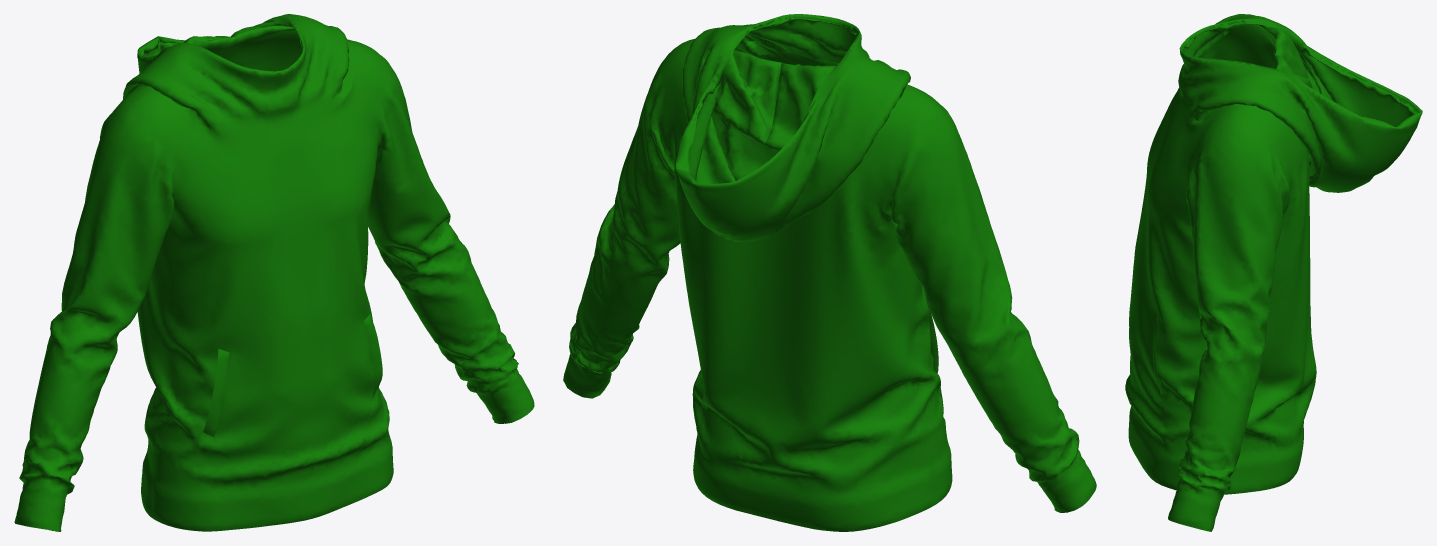
File: Hoodie2-2.glb
3 views of the same model, side by side, from view 1: azimuth 30°, elevation 25°; view 2: azimuth 150°, elevation 25°; view 3: azimuth 270°, elevation 25° (orthographic). The views are drawn at different scales.
Visible parts, largest first — view 1: Hoodie.001; view 2: Hoodie.001; view 3: Hoodie.001.
Boxes of the visible parts, left/top/right/bottom form: Hoodie.001: left=14, top=14, right=534, bottom=531; Hoodie.001: left=563, top=14, right=1096, bottom=531; Hoodie.001: left=1125, top=14, right=1422, bottom=531.
Size of the model in its own units: 0.8364 by 0.7072 by 0.4617.
